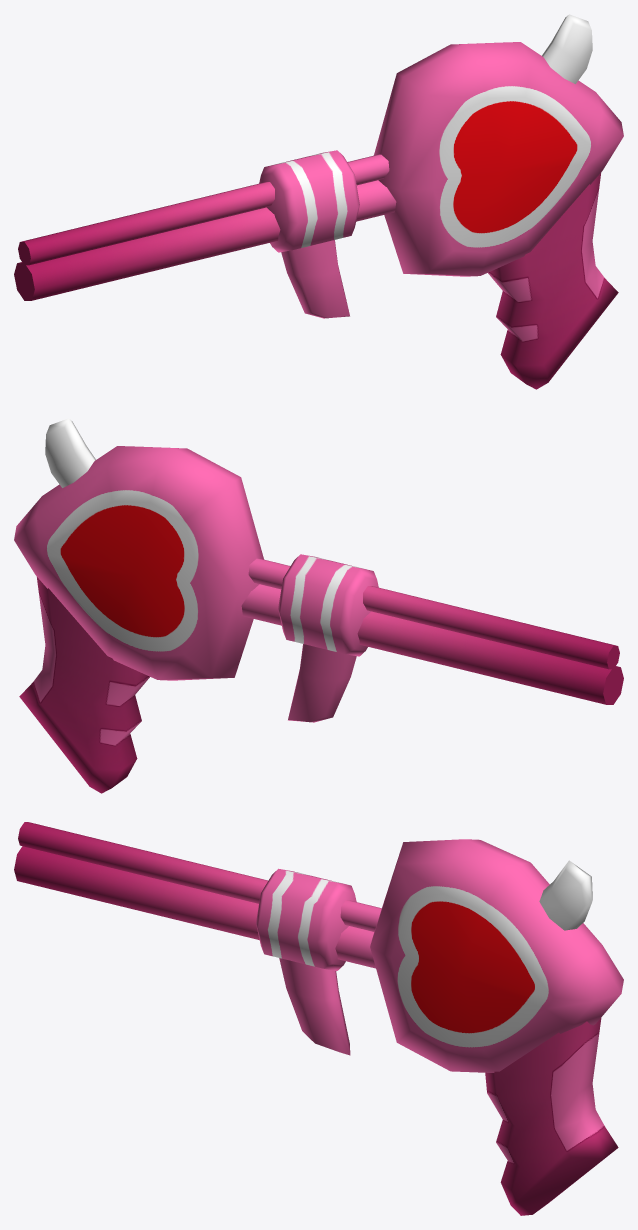
File: gun_05.fbx
3 renders of one model, top to bottom at view 1: azimuth 30°, elevation 25°; view 2: azimuth 150°, elevation 25°; view 3: azimuth 330°, elevation 25°, orthographic.
Visible parts, largest first — view 1: gun 05; view 2: gun 05; view 3: gun 05.
Part boxes in pixels (x1,y1,x2,y2): gun 05: (14, 14, 623, 389); gun 05: (14, 418, 623, 793); gun 05: (14, 822, 623, 1215).
Bounding box in the file's own units: 41.09 × 23.66 × 5.05.
